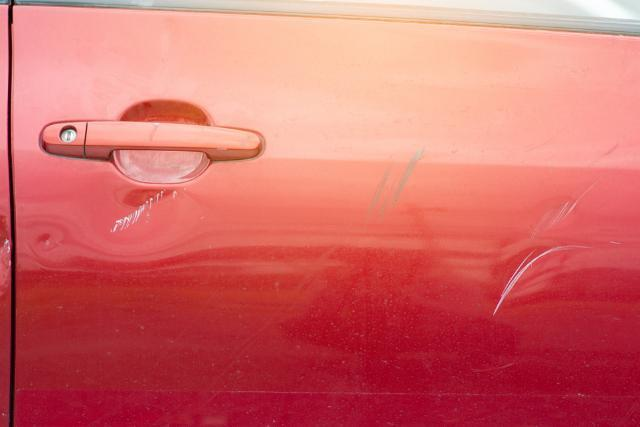Door: (79, 103, 640, 350)
